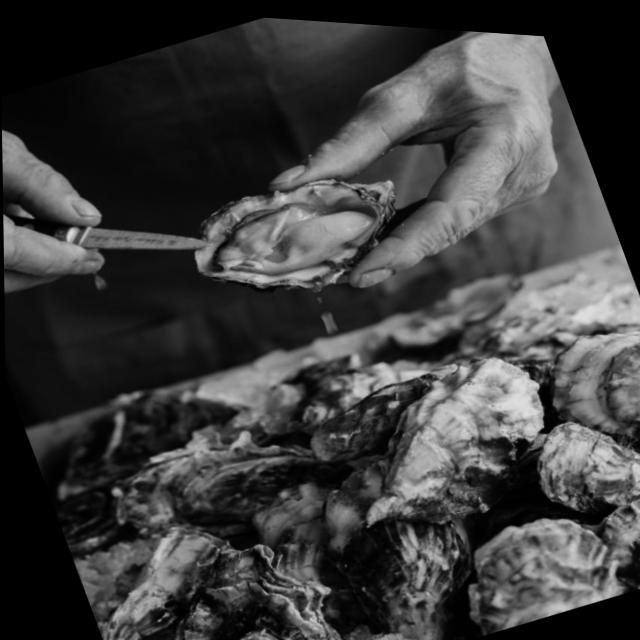Oyster-Closed: (295, 350, 573, 467), (366, 304, 482, 373), (514, 314, 640, 361)
Oyster-Indeterminate: (351, 347, 554, 547), (98, 421, 369, 548), (316, 444, 484, 640), (439, 507, 640, 640), (241, 465, 383, 640), (40, 386, 250, 497), (165, 531, 364, 640), (84, 517, 236, 640), (529, 309, 640, 451), (519, 404, 640, 522), (274, 359, 424, 440), (42, 471, 131, 565), (425, 265, 544, 331), (576, 484, 640, 596), (264, 348, 374, 405)
Oyster-Open: (179, 149, 429, 318)
